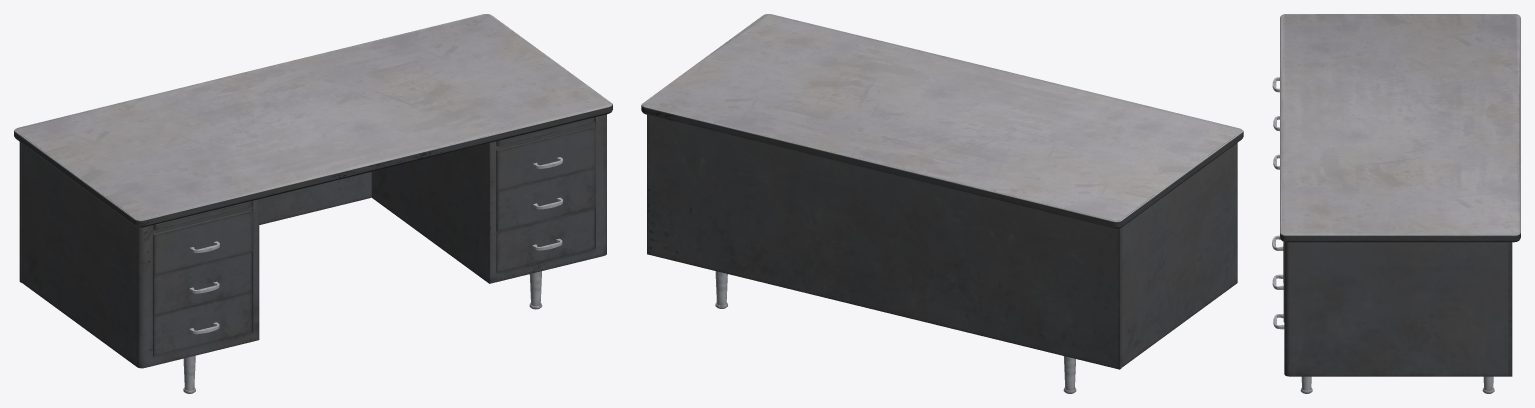
The model's file is steel-office-desk.glb.
The picture shows the model from 3 angles, left to right: view 1: azimuth 30°, elevation 25°; view 2: azimuth 150°, elevation 25°; view 3: azimuth 270°, elevation 25°; orthographic projection. The views are drawn at different scales.
Parts seen in each view (by area): view 1: metal_office_desk, metal_office_desk_drawer_04, metal_office_desk_drawer_01, metal_office_desk_drawer_02, metal_office_desk_drawer_03, metal_office_desk_drawer_06, metal_office_desk_drawer_05, metal_office_desk_tray_01, metal_office_desk_tray_02; view 2: metal_office_desk; view 3: metal_office_desk.
Boxes of the visible parts, x1=… form: metal_office_desk: x1=14, y1=14, x2=612, y2=393; metal_office_desk_drawer_04: x1=153, y1=210, x2=252, y2=275; metal_office_desk_drawer_01: x1=496, y1=126, x2=595, y2=191; metal_office_desk_drawer_02: x1=496, y1=167, x2=595, y2=231; metal_office_desk_drawer_03: x1=496, y1=208, x2=594, y2=272; metal_office_desk_drawer_06: x1=153, y1=292, x2=251, y2=356; metal_office_desk_drawer_05: x1=153, y1=252, x2=251, y2=315; metal_office_desk_tray_01: x1=153, y1=201, x2=251, y2=230; metal_office_desk_tray_02: x1=496, y1=117, x2=594, y2=146; metal_office_desk: x1=641, y1=14, x2=1243, y2=393; metal_office_desk: x1=1280, y1=14, x2=1520, y2=393.
Size of the model in its own units: 2 by 0.7874 by 0.9472.
Materials: 1 (1 with a texture image).
